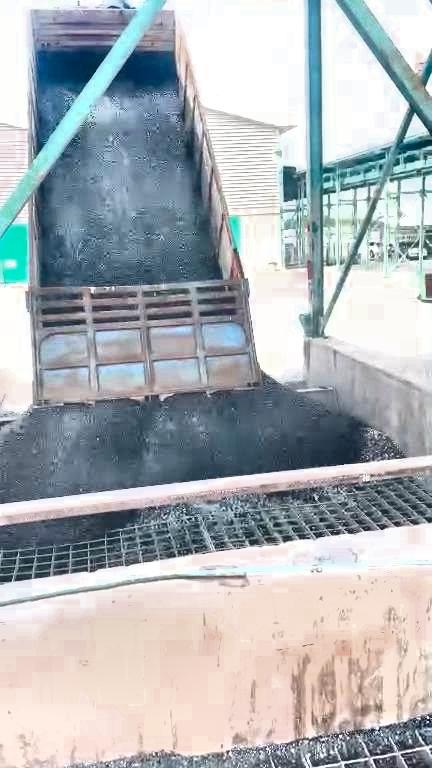gravel: (1, 378, 364, 501), (38, 52, 221, 285), (86, 715, 432, 767), (38, 50, 103, 145), (1, 511, 141, 547)
